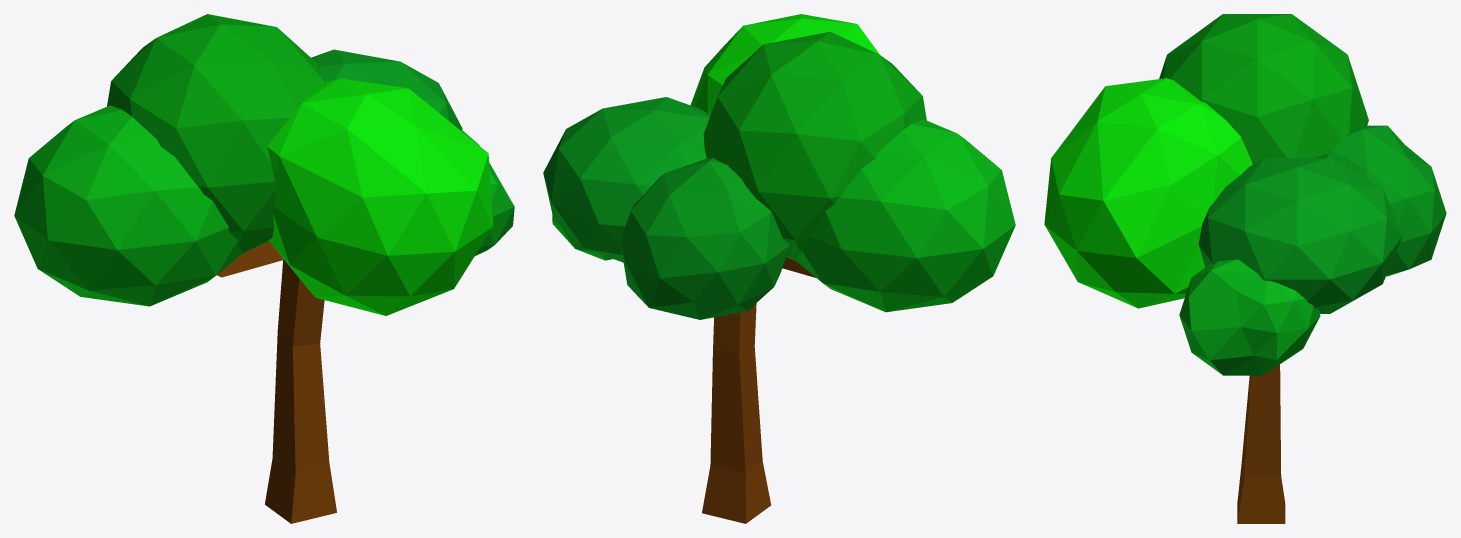
File: tree.fbx
3 renders of one model, left to right at view 1: azimuth 30°, elevation 25°; view 2: azimuth 150°, elevation 25°; view 3: azimuth 270°, elevation 25°, orthographic. The views are drawn at different scales.
Parts seen in each view (by area): view 1: Icosphere.001, Icosphere, Icosphere.005, Wood, Icosphere.004, Icosphere.002; view 2: Icosphere.005, Icosphere, Icosphere.003, Icosphere.004, Wood, Icosphere.001; view 3: Icosphere.001, Icosphere.004, Icosphere.005, Icosphere.002, Icosphere.003, Wood.
Part boxes in pixels (bbox=[...]): Icosphere.001: bbox=[267, 78, 493, 315]; Icosphere: bbox=[14, 105, 242, 306]; Icosphere.005: bbox=[107, 14, 325, 253]; Wood: bbox=[217, 241, 336, 523]; Icosphere.004: bbox=[311, 49, 462, 130]; Icosphere.002: bbox=[460, 129, 514, 255]; Icosphere.005: bbox=[703, 31, 926, 261]; Icosphere: bbox=[796, 119, 1015, 312]; Icosphere.003: bbox=[620, 158, 790, 319]; Icosphere.004: bbox=[543, 97, 710, 262]; Wood: bbox=[702, 257, 815, 523]; Icosphere.001: bbox=[690, 14, 879, 114]; Icosphere.001: bbox=[1044, 78, 1252, 308]; Icosphere.004: bbox=[1198, 158, 1402, 313]; Icosphere.005: bbox=[1159, 14, 1368, 164]; Icosphere.002: bbox=[1179, 259, 1320, 375]; Icosphere.003: bbox=[1326, 125, 1446, 276]; Wood: bbox=[1237, 364, 1285, 523].
Bounding box in the file's own units: 1986 × 2108 × 1676.
